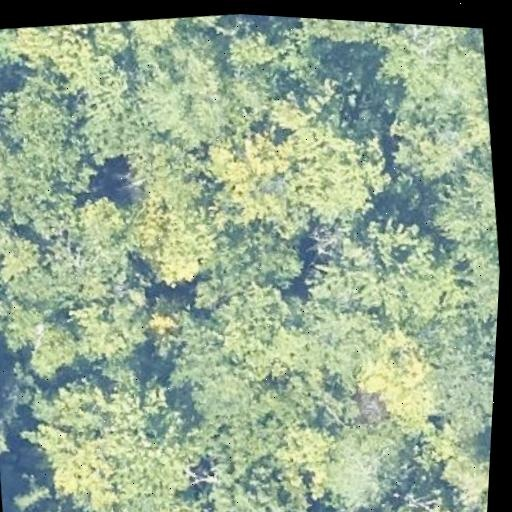tree-top: (11, 354, 212, 512), (168, 281, 344, 448), (306, 199, 455, 332), (0, 187, 138, 325), (115, 27, 254, 153), (418, 148, 506, 328), (275, 107, 400, 229), (0, 65, 96, 220), (347, 321, 452, 441), (124, 186, 232, 296), (369, 22, 491, 117), (196, 124, 295, 239), (309, 416, 408, 512), (386, 98, 496, 180), (116, 134, 214, 217), (195, 440, 301, 512), (430, 318, 497, 418), (209, 13, 307, 80), (16, 19, 104, 91), (4, 307, 91, 379), (438, 431, 491, 512), (295, 18, 416, 51), (139, 293, 194, 364), (0, 398, 21, 482), (0, 122, 14, 214), (0, 274, 13, 352)
